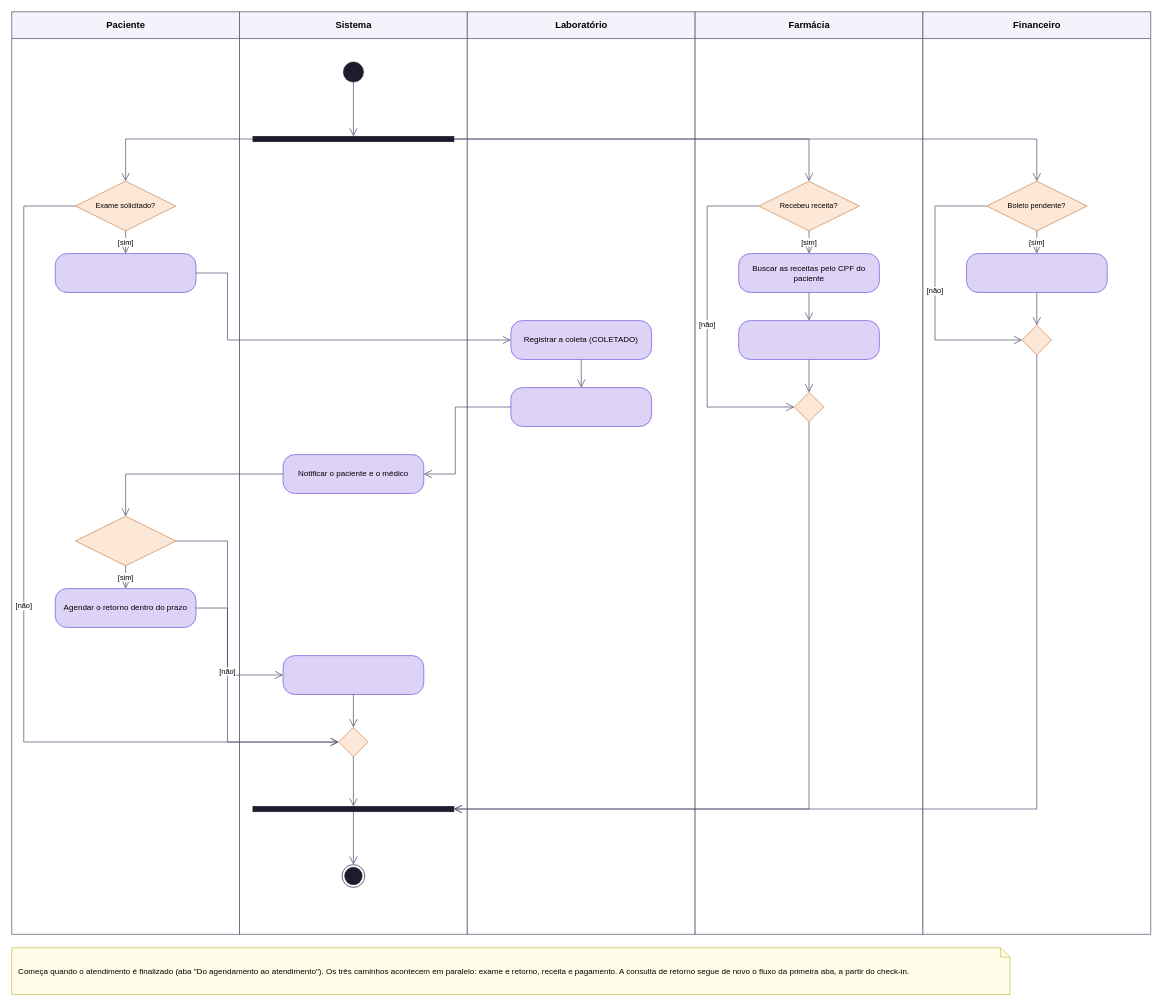
The diagram is 1162 pixels wide and 1006 high, and some of its shapes have lost their labels. The shapes that lost their labels are listed below. From the top down, each one's centre as x and y in pixels, then its label:
point (125, 272): Ir ao laboratório
point (1036, 272): Receber o pagamento e dar baixa (PAGO)
point (808, 339): Registrar a retirada do medicamento
point (581, 406): Anexar o resultado (CONCLUIDO)
point (125, 541): Há prazo de retorno?
point (353, 674): Registrar a consulta de retorno (AGENDADA)
